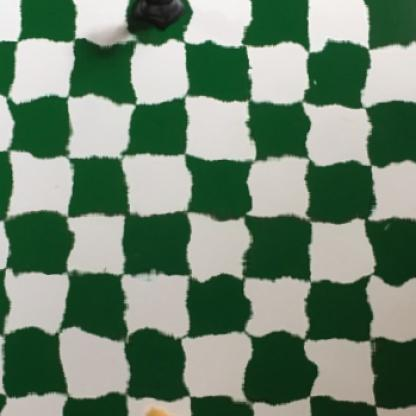black-queen: (135, 0, 189, 37)
white-queen: (132, 402, 189, 416)
